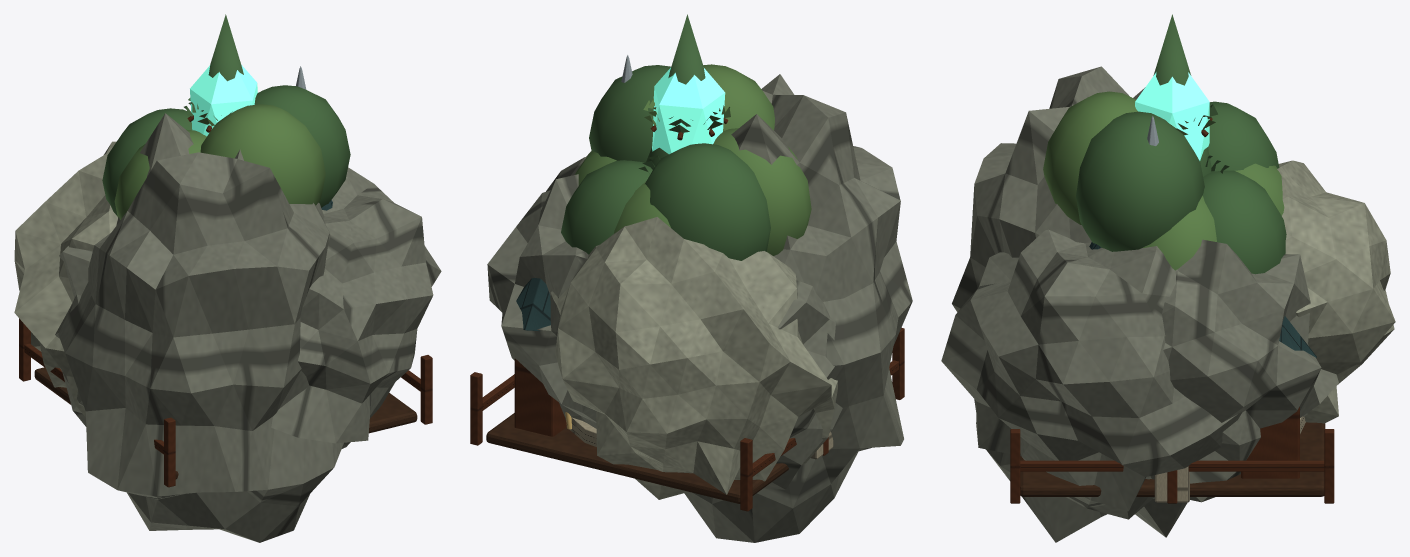
File: kingdom.glb
The picture shows the model from 3 angles, left to right: view 1: azimuth 30°, elevation 25°; view 2: azimuth 150°, elevation 25°; view 3: azimuth 270°, elevation 25°; orthographic projection. The views are drawn at different scales.
Visible parts, largest first — view 1: mountain, oak, farm, beacon, pine; view 2: mountain, oak, farm, beacon, farm2, pine; view 3: mountain, oak, farm, beacon, farm2, pine, wall.
Part boxes in pixels (bbox=[...]): mountain: bbox=[14, 113, 441, 542]; oak: bbox=[102, 85, 350, 219]; farm: bbox=[19, 318, 432, 487]; beacon: bbox=[190, 65, 257, 136]; pine: bbox=[184, 14, 243, 132]; mountain: bbox=[487, 74, 912, 542]; oak: bbox=[561, 64, 811, 260]; farm: bbox=[470, 327, 904, 511]; beacon: bbox=[566, 67, 725, 446]; farm2: bbox=[514, 278, 566, 436]; pine: bbox=[638, 14, 730, 174]; mountain: bbox=[941, 66, 1395, 542]; oak: bbox=[1043, 91, 1286, 274]; farm: bbox=[1010, 422, 1334, 503]; beacon: bbox=[1135, 72, 1305, 433]; farm2: bbox=[1241, 316, 1316, 478]; pine: bbox=[1153, 14, 1229, 176]; wall: bbox=[1154, 466, 1189, 502].
Size of the model in its own units: 1.1 by 1.51 by 1.16.
17 materials, 7 textured.
